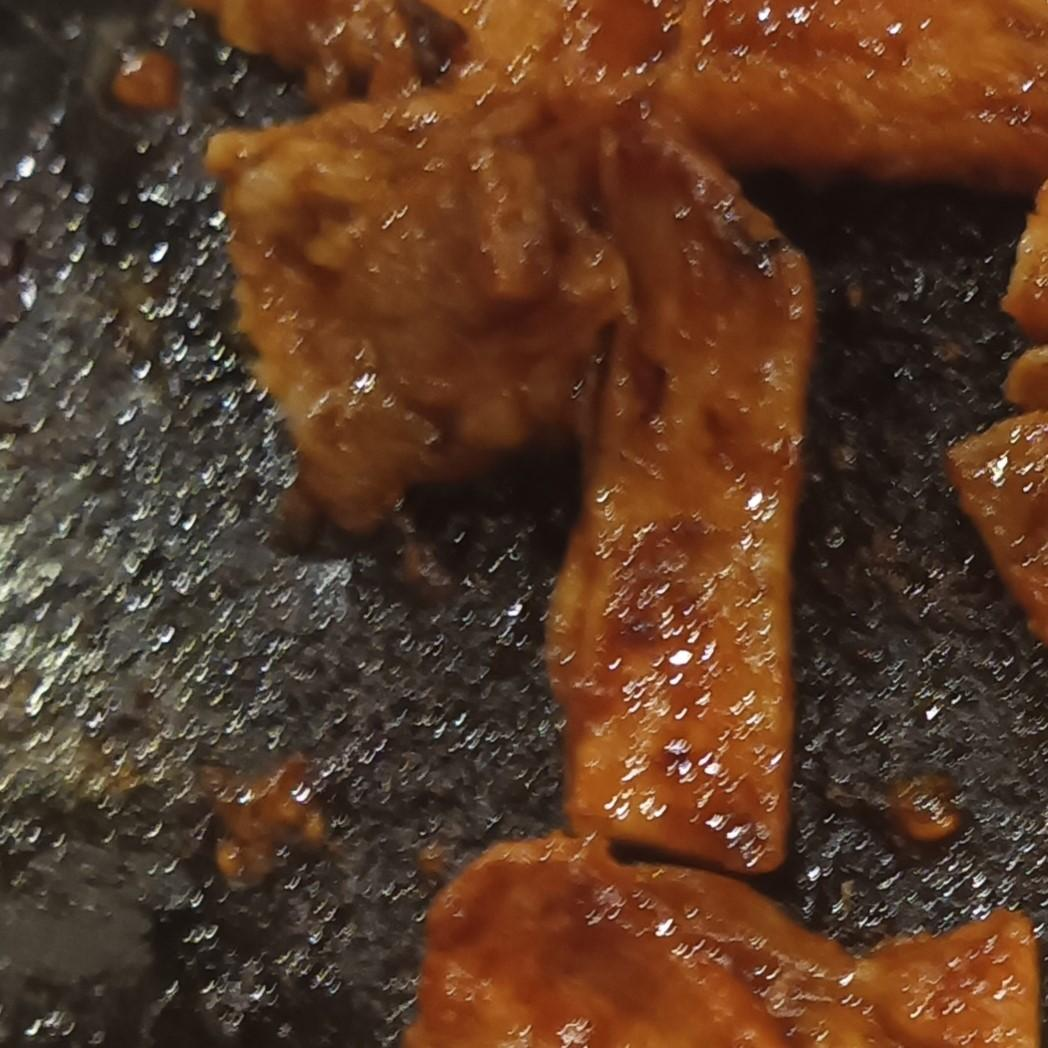Well-Cooked: (545, 97, 819, 884), (205, 75, 633, 546), (399, 837, 1043, 1047), (650, 0, 1047, 194)
